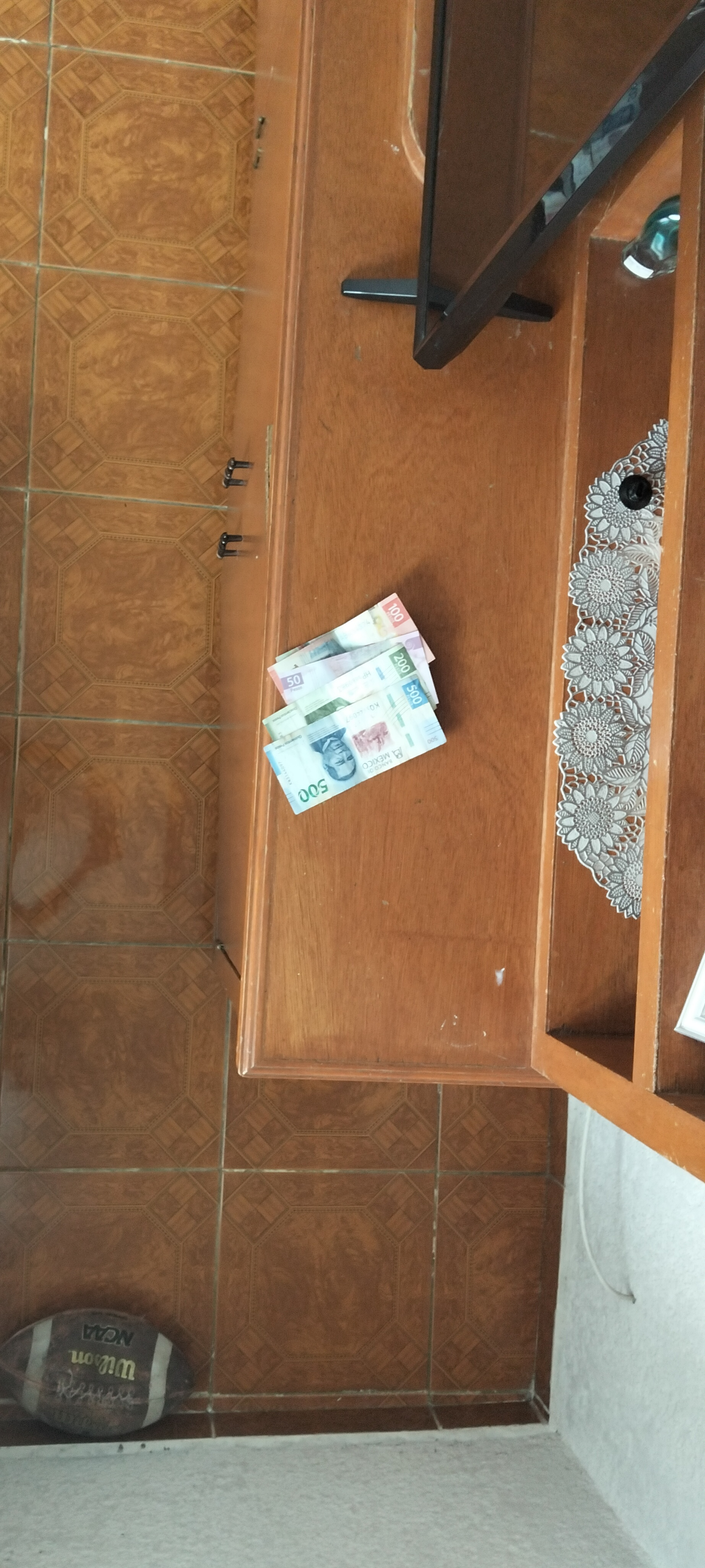billetes: (243, 576, 458, 824)
